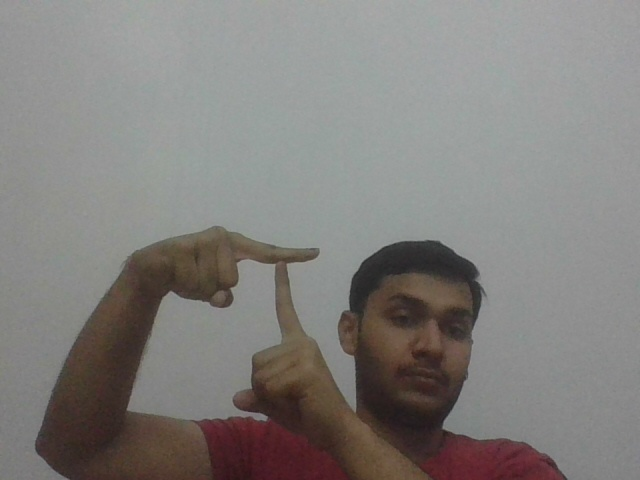T: (241, 228, 326, 337)
